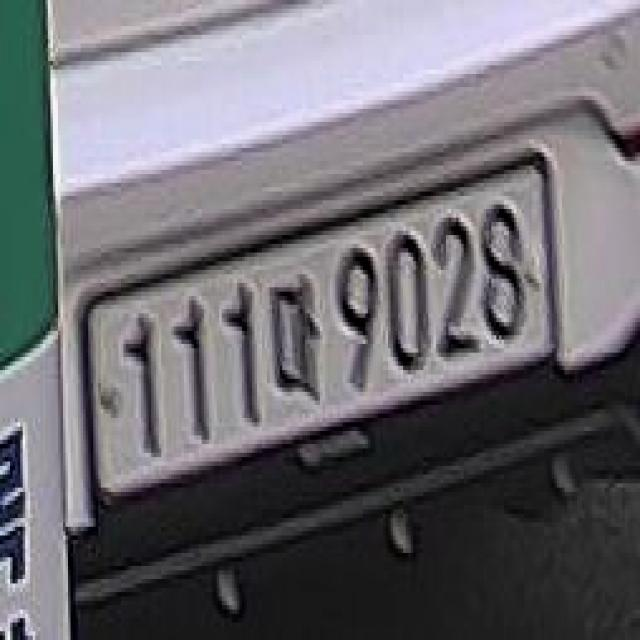illegal_plate: (80, 144, 566, 516)
